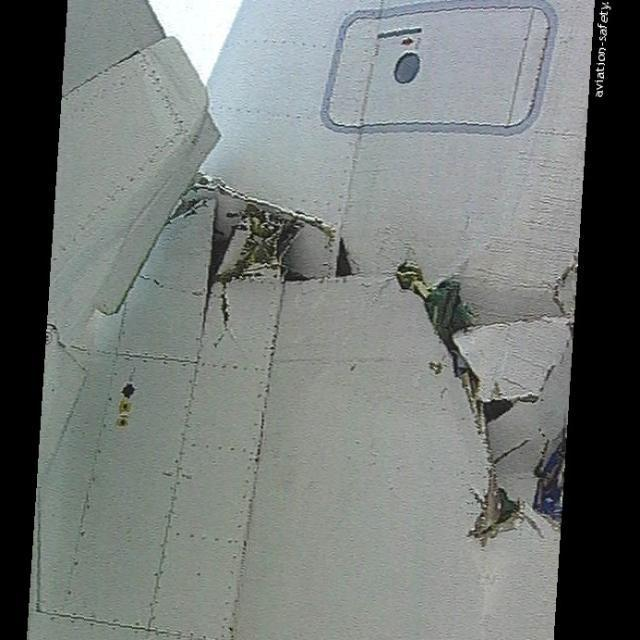crack: (159, 167, 547, 541), (395, 262, 521, 549), (208, 193, 322, 286)
